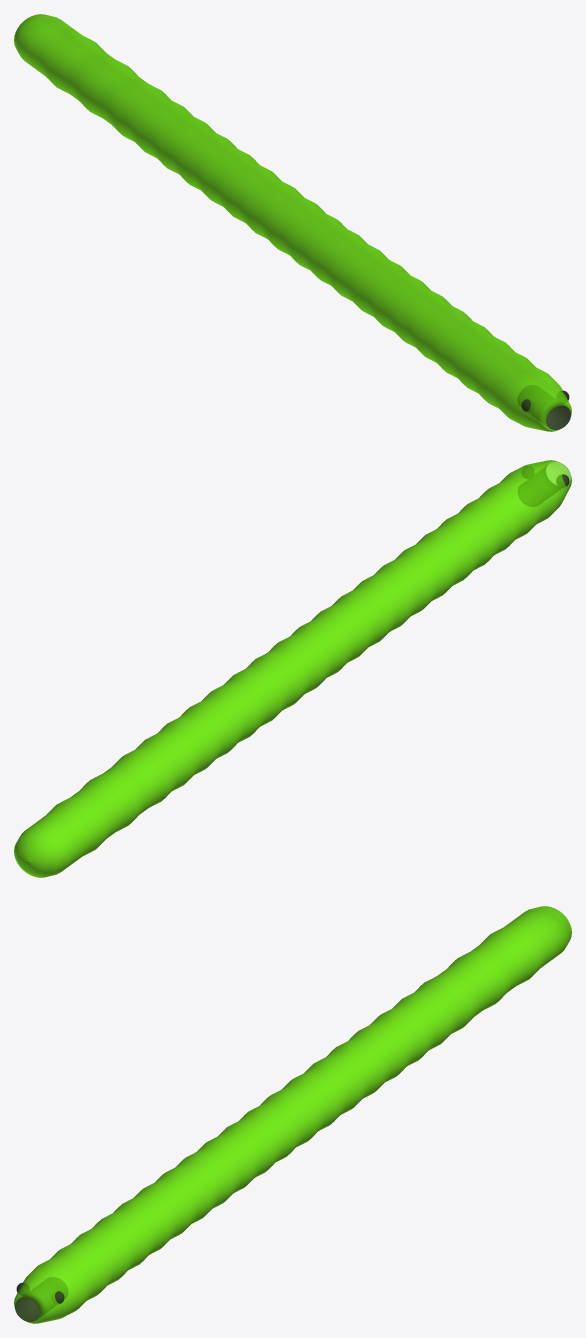
Rendered from gummyworm.glb.
3 views of the same model, one above another, from view 1: azimuth 30°, elevation 25°; view 2: azimuth 150°, elevation 25°; view 3: azimuth 330°, elevation 25° (orthographic).
Parts seen in each view (by area): view 1: Cylinder; view 2: Cylinder; view 3: Cylinder.
Boxes of the visible parts, left/top/right/bottom form: Cylinder: left=14, top=14, right=571, bottom=431; Cylinder: left=14, top=460, right=571, bottom=877; Cylinder: left=14, top=906, right=571, bottom=1323.
Bounding box in the file's own units: 2.17 × 1.95 × 36.63.
